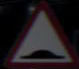Speed Breaker ahead: (10, 6, 65, 61)
